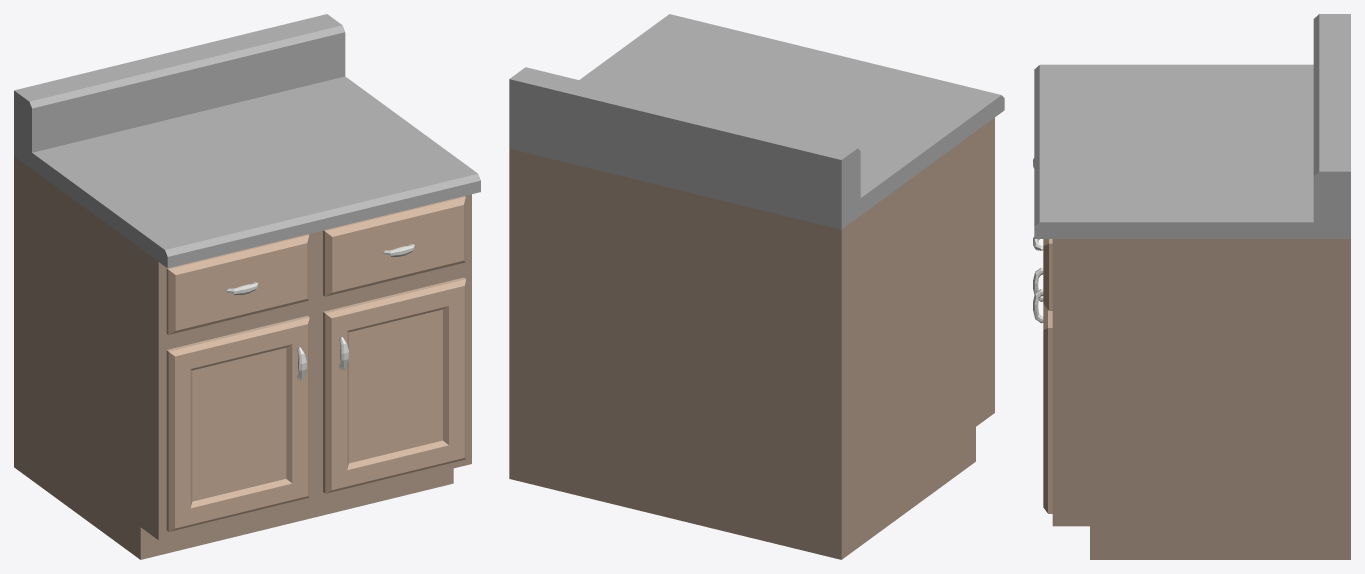
Rendered from Structure_Kitchen_Cabinet_Base_Full.fbx.
3 views of the same model, side by side, from view 1: azimuth 30°, elevation 25°; view 2: azimuth 150°, elevation 25°; view 3: azimuth 270°, elevation 25° (orthographic). The views are drawn at different scales.
Visible parts, largest first — view 1: object9.006, object8.007, object6.009, object7.007, object1.085, object4.027; view 2: object8.007, object9.006; view 3: object8.007, object9.006, object6.009, object4.027.
Boxes of the visible parts, x1,y1,x2,y2 form: object9.006: (14, 14, 480, 268); object8.007: (14, 156, 471, 559); object6.009: (323, 277, 466, 493); object7.007: (166, 315, 309, 531); object1.085: (166, 234, 309, 334); object4.027: (323, 196, 465, 296); object8.007: (509, 117, 994, 559); object9.006: (509, 14, 1004, 229); object8.007: (1052, 239, 1350, 559); object9.006: (1034, 14, 1350, 238); object6.009: (1043, 304, 1052, 513); object4.027: (1043, 239, 1052, 310).
Bounding box in the file's own units: 100 × 115 × 85.31.
